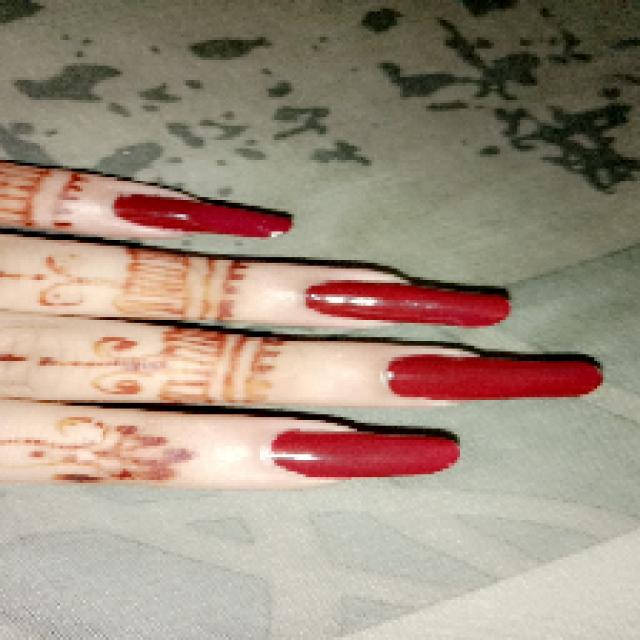Nail: (389, 355, 602, 399), (305, 281, 510, 326), (271, 431, 460, 478), (114, 194, 292, 237)
